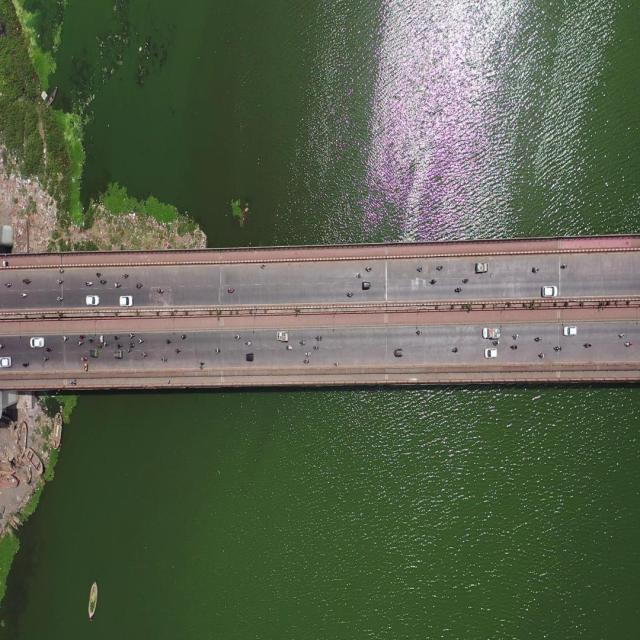3W: (245, 351, 259, 367), (360, 279, 373, 292), (393, 347, 405, 359), (89, 348, 99, 357), (114, 350, 123, 359)
Cars: (30, 332, 48, 350), (540, 283, 559, 300), (481, 345, 499, 361), (562, 322, 578, 336), (119, 294, 135, 307), (84, 295, 101, 307), (1, 356, 14, 369)
M2W: (244, 339, 257, 351), (582, 341, 595, 353), (312, 331, 324, 343), (165, 337, 175, 350), (346, 289, 356, 302), (199, 360, 209, 372), (22, 361, 35, 370), (158, 284, 167, 297), (4, 279, 14, 290), (509, 343, 520, 353), (20, 277, 32, 286), (436, 260, 445, 272), (531, 265, 540, 277), (160, 351, 168, 364), (19, 290, 29, 300), (213, 345, 223, 355), (533, 332, 543, 342), (99, 278, 108, 289), (365, 264, 374, 275), (624, 339, 635, 348), (86, 278, 94, 290), (538, 349, 546, 361), (452, 342, 459, 355), (174, 346, 183, 356), (453, 284, 463, 293), (513, 332, 522, 342), (554, 342, 562, 353), (136, 281, 145, 290), (128, 331, 137, 340), (304, 348, 313, 357), (332, 359, 341, 368), (617, 331, 626, 340), (46, 346, 56, 354), (113, 280, 122, 288), (299, 336, 307, 345), (122, 269, 129, 279), (78, 337, 85, 347), (415, 266, 425, 273), (560, 260, 567, 270), (260, 263, 267, 273), (62, 336, 71, 343), (57, 278, 64, 287), (80, 353, 87, 362), (228, 285, 235, 294), (287, 343, 294, 352), (303, 356, 310, 365), (311, 344, 320, 351), (462, 275, 469, 284), (98, 333, 105, 342), (128, 343, 138, 349), (234, 332, 240, 342), (79, 331, 86, 339), (138, 337, 145, 345), (142, 350, 149, 358), (430, 278, 438, 285), (415, 329, 422, 337), (493, 338, 500, 346), (57, 294, 63, 303), (111, 333, 120, 339), (354, 274, 363, 280), (97, 341, 103, 350), (40, 357, 50, 362), (181, 334, 188, 341), (116, 342, 124, 348), (89, 335, 95, 341), (103, 341, 110, 346), (126, 349, 132, 354)
Truck: (484, 325, 502, 339), (476, 258, 489, 274), (277, 331, 291, 343)
